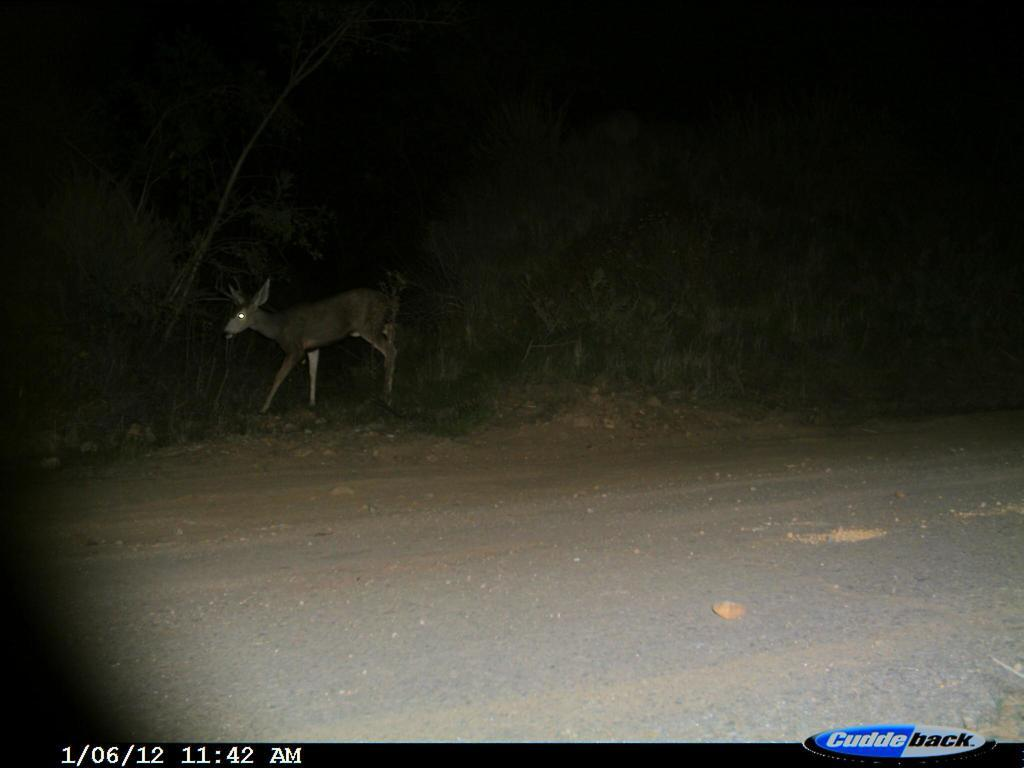deer: (214, 257, 418, 425)
